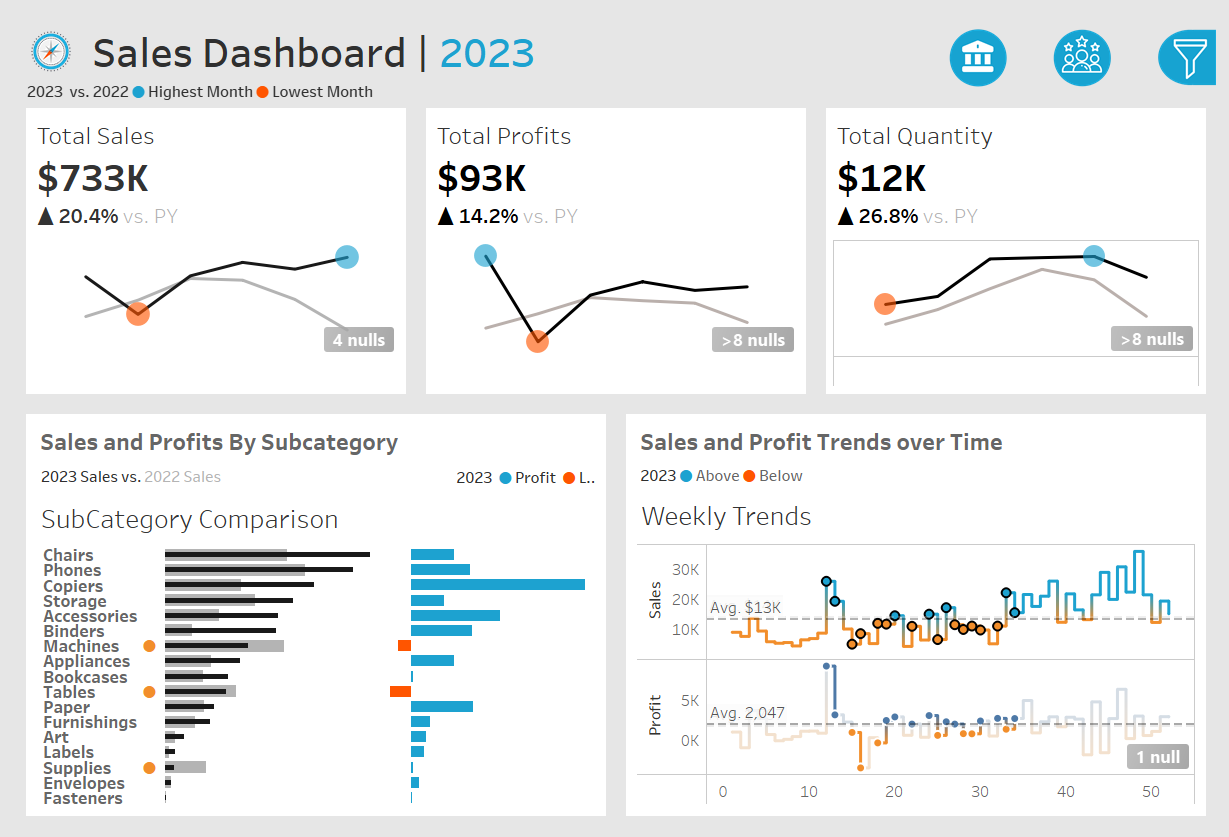

This screenshot's page, from the dashboard's own definition file:
{"tool":"tableau","page":{"name":"Sales Dashboard","canvas":[1200,800],"ordinal":1},"visuals":[{"type":"image","param":"C:/Users/aq63152/projects/technical_notes/Tableau/Non-EU Training Datasets/Table","box":[0,0,69,50]},{"type":"text","box":[69,0,774,50]},{"type":"blank","box":[927,10,261,71]},{"type":"worksheet","title":"Legend KPI","mark":"Automatic","box":[0,50,1200,32]},{"type":"text","box":[927,81,261,71]},{"type":"worksheet","title":"KPI Sales","mark":"Automatic","rows":["Calculation_1778640433450188804"],"cols":["Order Date"],"box":[0,82,400,296]},{"type":"worksheet","title":"KPI Profits","mark":"Line","rows":["Calculation_1090997068885192707"],"cols":["Order Date"],"box":[400,82,400,296]},{"type":"worksheet","title":"KPI Quantity","mark":"Automatic","rows":["Calculation_1090997068895694859"],"cols":["Order Date"],"box":[800,82,400,296]},{"type":"parameter","param":"[Parameters].[Parameter 1]","box":[927,152,261,71]},{"type":"text","box":[927,223,261,71]},{"type":"filter","title":"KPI Sales","param":"[federated.0fcldyo1fp6vbt1f5j1aa110icyl].[none:Category:nk]","box":[927,294,261,71]},{"type":"filter","title":"KPI Sales","param":"[federated.0fcldyo1fp6vbt1f5j1aa110icyl].[none:Sub-Category:nk]","box":[927,365,261,70]},{"type":"text","box":[17,395,566,40]},{"type":"text","box":[617,395,566,40]},{"type":"worksheet","title":"Legend Subcategory","mark":"Automatic","box":[17,435,416,32]},{"type":"text","box":[433,435,150,32]},{"type":"text","box":[617,435,566,29]},{"type":"blank","box":[927,435,261,70]},{"type":"worksheet","title":"Weekly Trends","mark":"Automatic","rows":["Calculation_1778640433446141952","Calculation_1090997068880744448"],"cols":["Order Date"],"box":[617,464,566,319]},{"type":"worksheet","title":"SubCategory Comparison","mark":"Bar","rows":["Sub-Category","Calculation_1090997068900286478"],"cols":["Calculation_1778640433446600705","Calculation_1778640433446141952","Calculation_1090997068880744448"],"box":[17,467,566,315.9]},{"type":"text","box":[927,505,261,70]},{"type":"filter","title":"KPI Sales","param":"[federated.0fcldyo1fp6vbt1f5j1aa110icyl].[none:Region:nk]","box":[927,575,261,70]},{"type":"filter","title":"KPI Sales","param":"[federated.0fcldyo1fp6vbt1f5j1aa110icyl].[none:State:nk]","box":[927,645,261,70]},{"type":"filter","title":"KPI Sales","param":"[federated.0fcldyo1fp6vbt1f5j1aa110icyl].[none:City:nk]","box":[927,715,261,70]}]}

Visuals, with their boxes in screenshot pixels (x1, y1, x2, y2), scaled from the page's 1200x800 canvas onto the 1229x837 screenshot:
image: bbox=[0, 0, 71, 52]
text: bbox=[71, 0, 863, 52]
blank: bbox=[949, 10, 1217, 85]
"Legend KPI" worksheet: bbox=[0, 52, 1228, 86]
text: bbox=[949, 85, 1217, 159]
"KPI Sales" worksheet: bbox=[0, 86, 410, 395]
"KPI Profits" worksheet (Line marks): bbox=[410, 86, 819, 395]
"KPI Quantity" worksheet: bbox=[819, 86, 1228, 395]
parameter: bbox=[949, 159, 1217, 233]
text: bbox=[949, 233, 1217, 308]
"KPI Sales" filter: bbox=[949, 308, 1217, 382]
"KPI Sales" filter: bbox=[949, 382, 1217, 455]
text: bbox=[17, 413, 597, 455]
text: bbox=[632, 413, 1212, 455]
"Legend Subcategory" worksheet: bbox=[17, 455, 443, 489]
text: bbox=[443, 455, 597, 489]
text: bbox=[632, 455, 1212, 485]
blank: bbox=[949, 455, 1217, 528]
"Weekly Trends" worksheet: bbox=[632, 485, 1212, 819]
"SubCategory Comparison" worksheet (Bar marks): bbox=[17, 489, 597, 819]
text: bbox=[949, 528, 1217, 602]
"KPI Sales" filter: bbox=[949, 602, 1217, 675]
"KPI Sales" filter: bbox=[949, 675, 1217, 748]
"KPI Sales" filter: bbox=[949, 748, 1217, 821]
